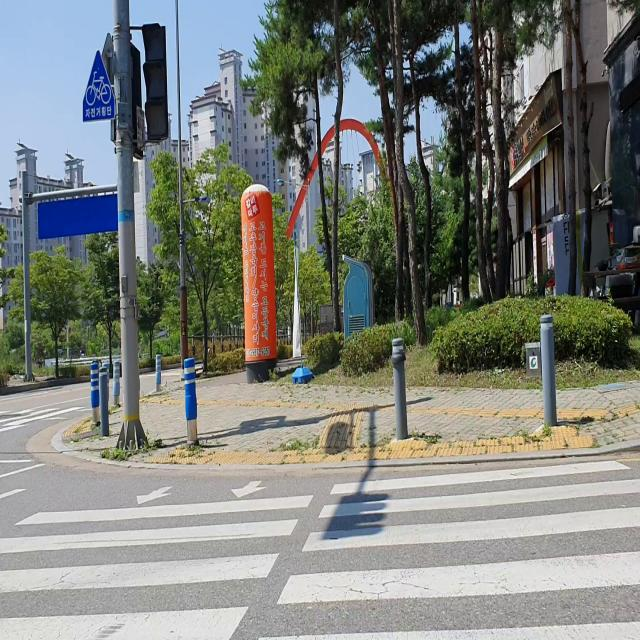횡단보도: (0, 455, 640, 640), (0, 403, 91, 427)
